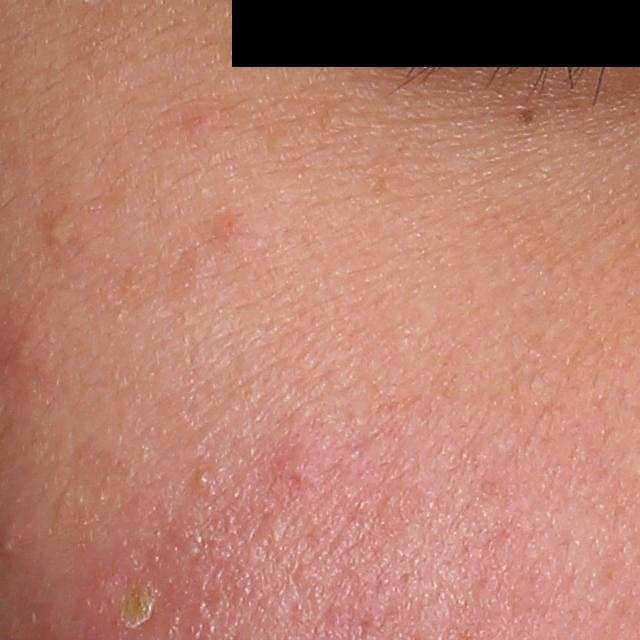comedo: (40, 210, 76, 249)
nevus: (516, 107, 537, 128)
